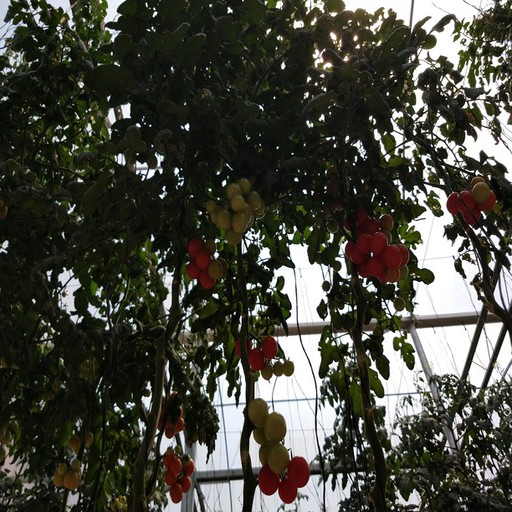green tomato bunch: (207, 182, 266, 243), (52, 456, 84, 491), (75, 355, 102, 382), (70, 431, 95, 451), (109, 493, 132, 512)
mixed tomato bunch: (247, 402, 310, 503), (448, 178, 496, 225), (185, 239, 229, 287)
red tomato bunch: (348, 232, 410, 279), (342, 203, 393, 244), (160, 446, 195, 502), (234, 333, 279, 369), (156, 393, 185, 437)
